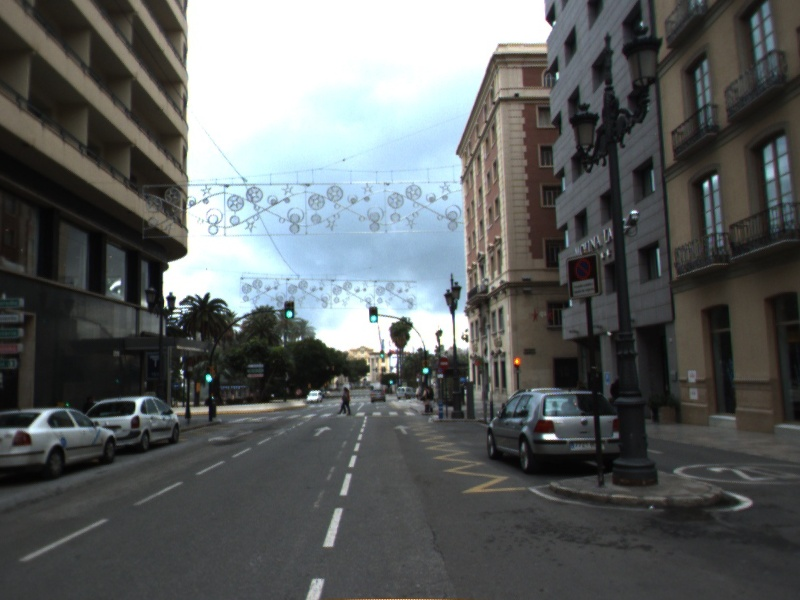STRAIGHT: (311, 424, 334, 438), (392, 422, 412, 436)
STRAIGHT_LEFT: (206, 429, 255, 444)
